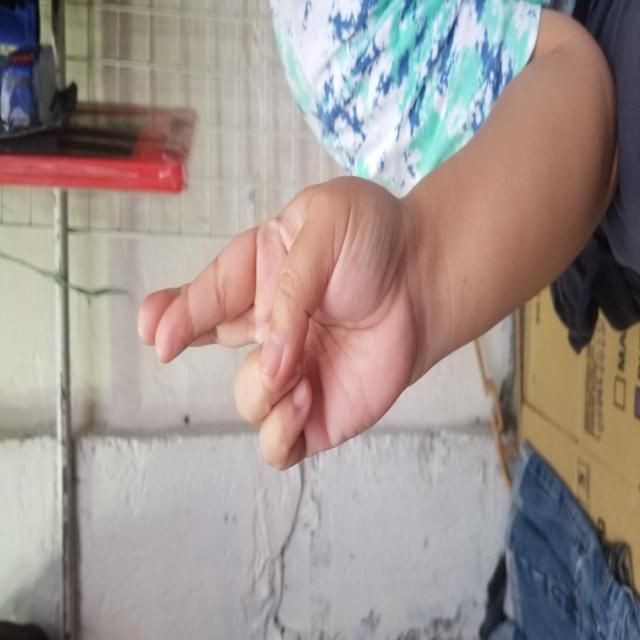R: (168, 134, 466, 418)
